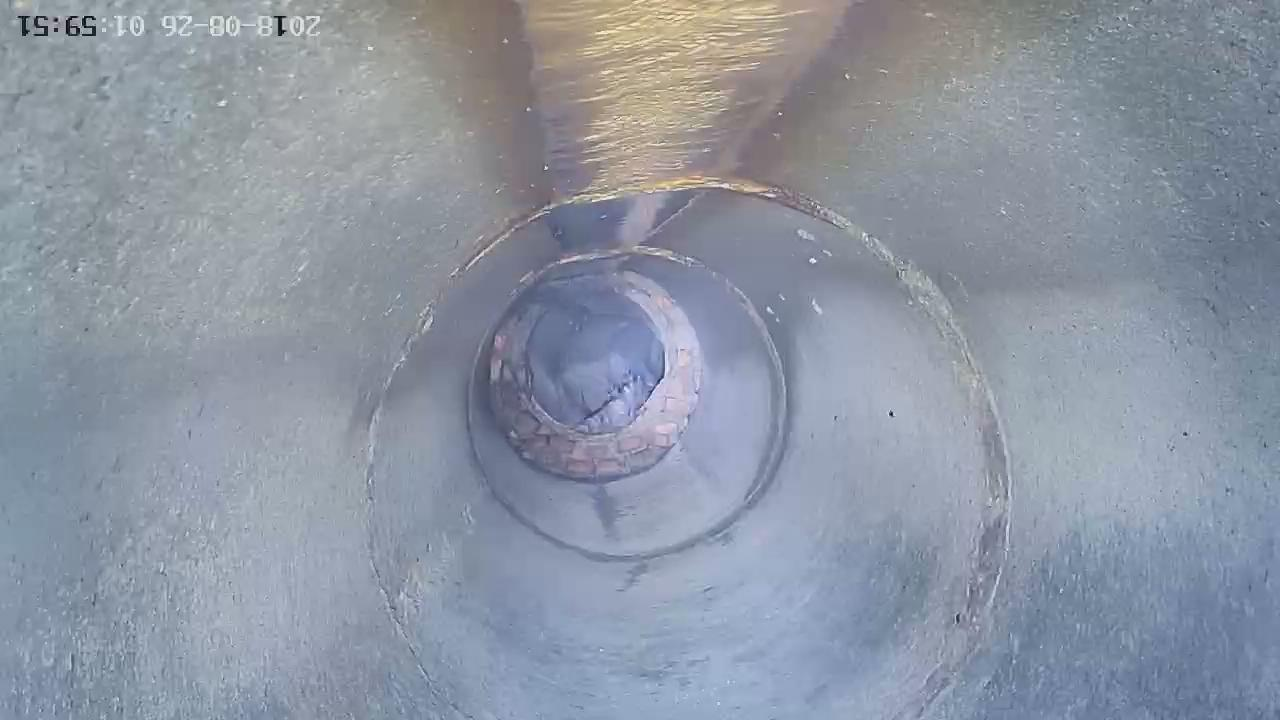CQBG: (489, 267, 703, 483)
